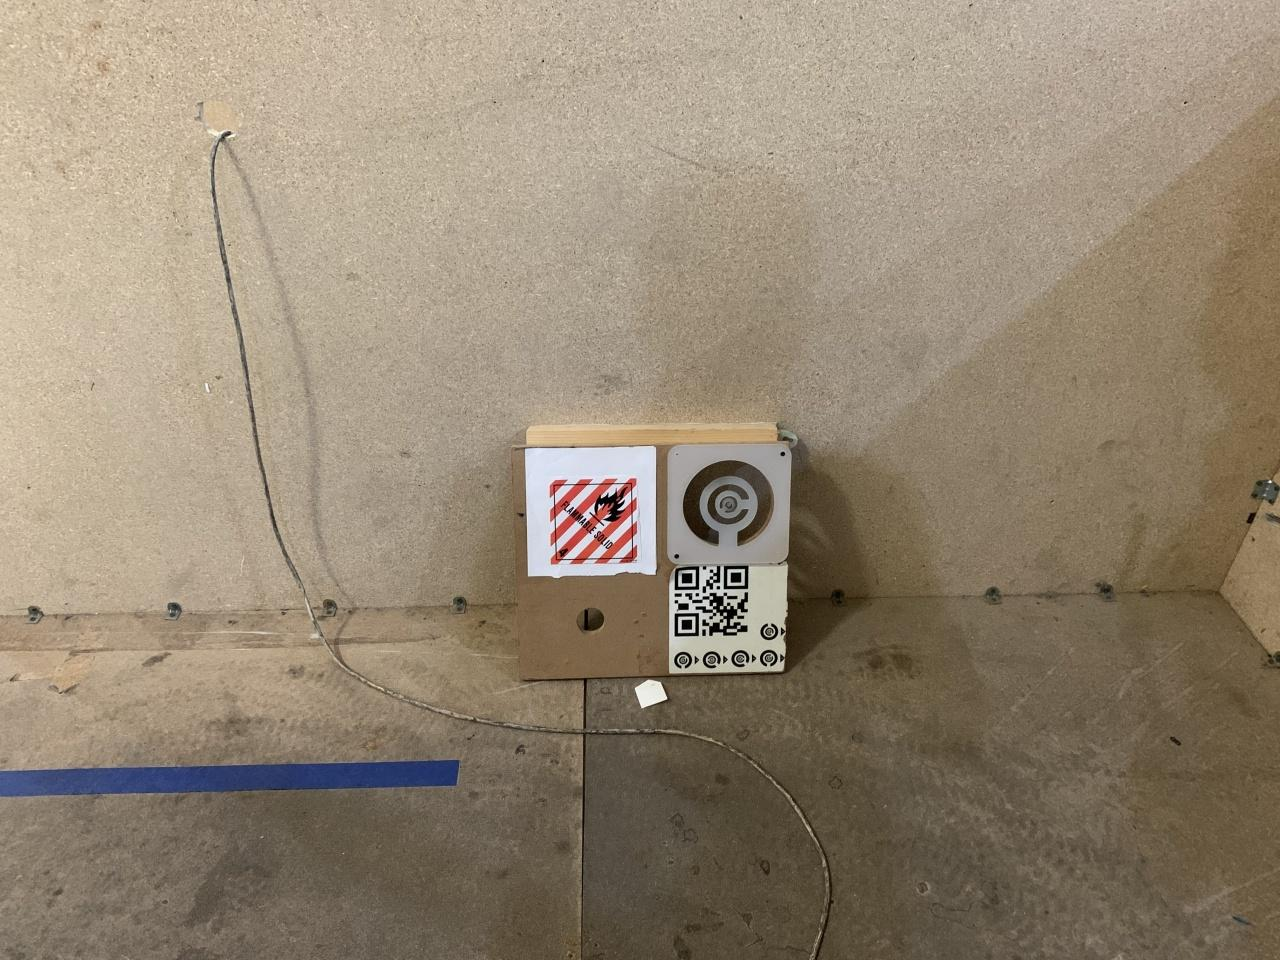flammable-solid: (549, 478, 640, 565)
